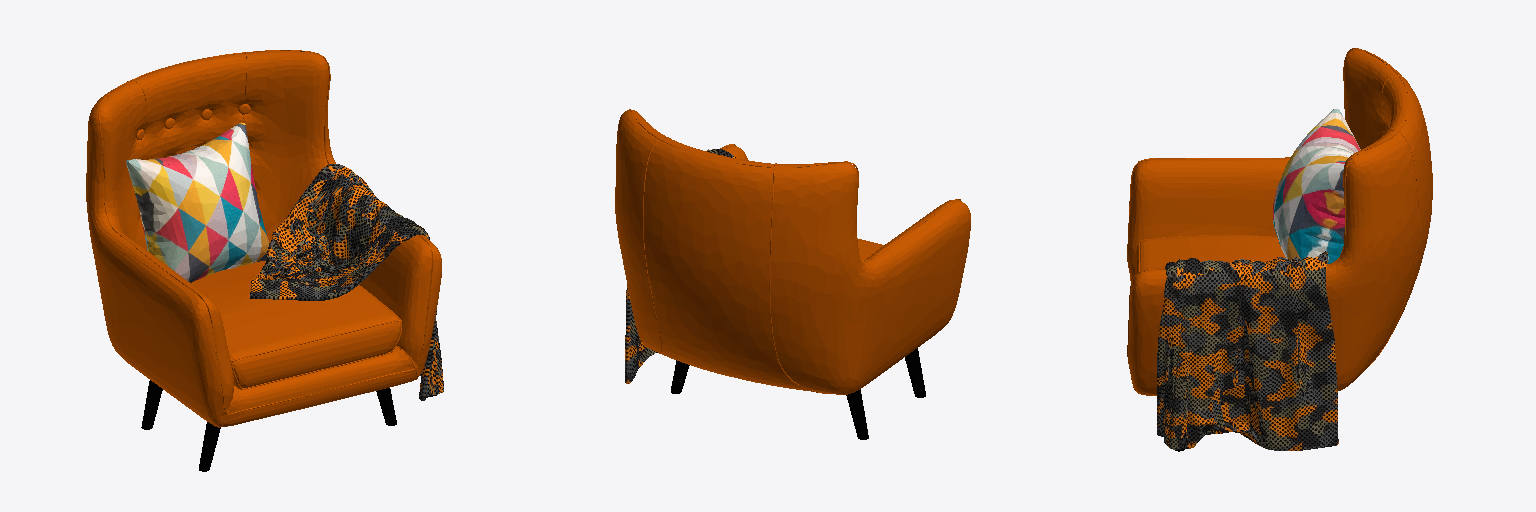
3 renders of one model, left to right at view 1: azimuth 30°, elevation 25°; view 2: azimuth 150°, elevation 25°; view 3: azimuth 270°, elevation 25°, orthographic.
Parts seen in each view (by area): view 1: Plane.002, Plane.008, Plane.009, Plane.001, Circle, Plane.004, Plane.006; view 2: Plane.002, Circle, Plane.009, Plane.005; view 3: Plane.002, Plane.009, Plane.008, Plane.001, Plane.004.
Boxes of the visible parts, <box> form: Plane.002: <box>86,50,441,426</box>; Plane.008: <box>126,122,269,282</box>; Plane.009: <box>250,164,443,400</box>; Plane.001: <box>191,261,400,388</box>; Circle: <box>141,380,396,471</box>; Plane.004: <box>98,50,432,414</box>; Plane.006: <box>230,285,401,389</box>; Plane.002: <box>615,110,970,394</box>; Circle: <box>671,348,925,439</box>; Plane.009: <box>625,149,735,383</box>; Plane.005: <box>643,137,827,393</box>; Plane.002: <box>1127,49,1432,395</box>; Plane.009: <box>1157,251,1338,450</box>; Plane.008: <box>1273,109,1360,263</box>; Plane.001: <box>1135,235,1285,274</box>; Plane.004: <box>1127,48,1409,376</box>.
Size of the model in its own units: 1.5 by 1.61 by 1.47.
Materials: 5 (2 with a texture image).